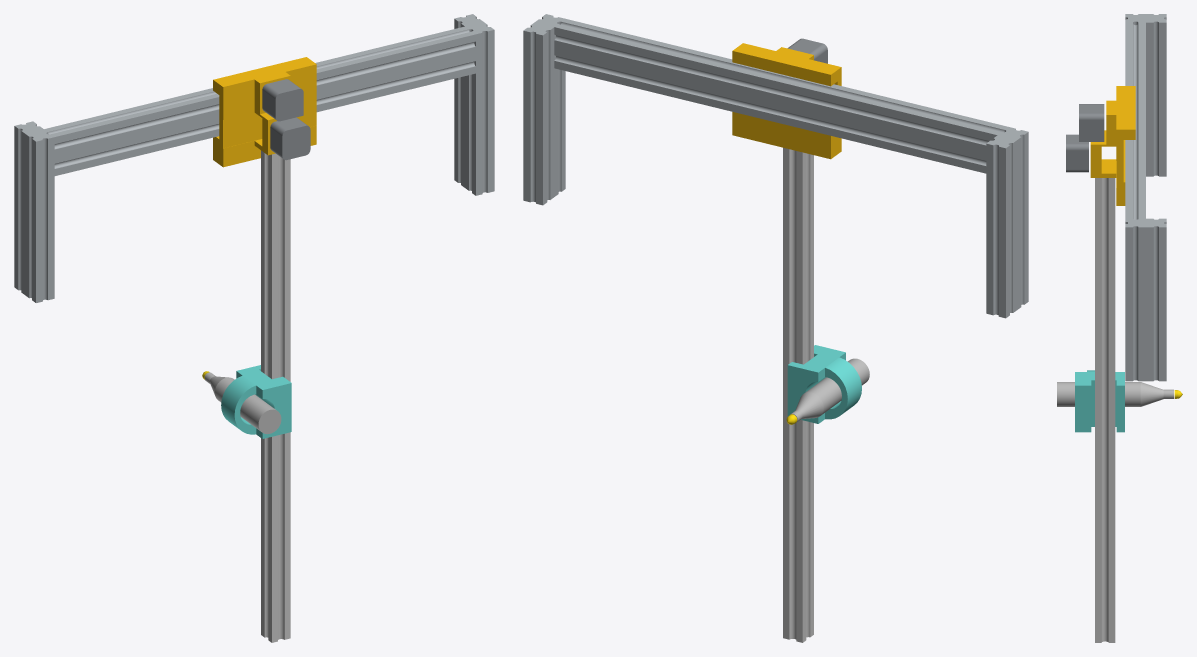
Rendered from 2DPlotter.gltf.
The picture shows the model from 3 angles, left to right: view 1: azimuth 30°, elevation 25°; view 2: azimuth 150°, elevation 25°; view 3: azimuth 270°, elevation 25°; orthographic projection. The views are drawn at different scales.
Visible parts, largest first — view 1: mesh82_meshnode_82, mesh126_meshnode_126, mesh28_meshnode_28, mesh29_meshnode_29, mesh30_meshnode_30, mesh32_meshnode_32, mesh80_meshnode_80, mesh83_meshnode_83, mesh31_meshnode_31, mesh35_meshnode_35, mesh73_meshnode_73, mesh107_meshnode_107 (+16 smaller); view 2: mesh121_meshnode_121, mesh126_meshnode_126, mesh125_meshnode_125, mesh119_meshnode_119, mesh37_meshnode_37, mesh24_meshnode_24, mesh36_meshnode_36, mesh124_meshnode_124, mesh120_meshnode_120, mesh64_meshnode_64, mesh35_meshnode_35, mesh32_meshnode_32 (+17 smaller); view 3: mesh25_meshnode_25, mesh26_meshnode_26, mesh126_meshnode_126, mesh27_meshnode_27, mesh92_meshnode_92, mesh90_meshnode_90, mesh94_meshnode_94, mesh113_meshnode_113, mesh123_meshnode_123, mesh129_meshnode_129, mesh58_meshnode_58, mesh91_meshnode_91 (+14 smaller).
Part boxes in pixels (x1,y1,x2,y2): mesh82_meshnode_82: (48,33,482,300); mesh126_meshnode_126: (15,14,493,141); mesh28_meshnode_28: (284,159,290,639); mesh29_meshnode_29: (278,155,284,639); mesh30_meshnode_30: (272,153,277,642); mesh32_meshnode_32: (264,153,268,637); mesh80_meshnode_80: (54,42,475,149); mesh83_meshnode_83: (54,61,475,168); mesh31_meshnode_31: (268,154,271,642); mesh35_meshnode_35: (261,150,264,637); mesh73_meshnode_73: (223,97,316,148); mesh107_meshnode_107: (21,131,29,297); mesh121_meshnode_121: (554,40,986,160); mesh126_meshnode_126: (524,14,1028,148); mesh125_meshnode_125: (554,27,997,140); mesh119_meshnode_119: (554,61,986,173); mesh37_meshnode_37: (789,149,796,639); mesh24_meshnode_24: (783,147,789,639); mesh36_meshnode_36: (796,151,802,642); mesh124_meshnode_124: (554,35,989,145); mesh120_meshnode_120: (554,55,986,165); mesh64_meshnode_64: (732,112,830,159); mesh35_meshnode_35: (802,152,806,642); mesh32_meshnode_32: (806,153,810,637); mesh25_meshnode_25: (1108,178,1115,642); mesh26_meshnode_26: (1101,178,1108,641); mesh126_meshnode_126: (1125,14,1166,227); mesh27_meshnode_27: (1095,178,1101,642); mesh92_meshnode_92: (1138,227,1153,381); mesh90_meshnode_90: (1125,227,1132,381); mesh94_meshnode_94: (1159,227,1166,381); mesh113_meshnode_113: (1159,22,1166,176); mesh123_meshnode_123: (1146,22,1153,176); mesh129_meshnode_129: (1133,24,1138,219); mesh58_meshnode_58: (1106,86,1135,129); mesh91_meshnode_91: (1133,226,1138,380).
Size of the model in its own units: 0.49 by 0.5685 by 0.122.
